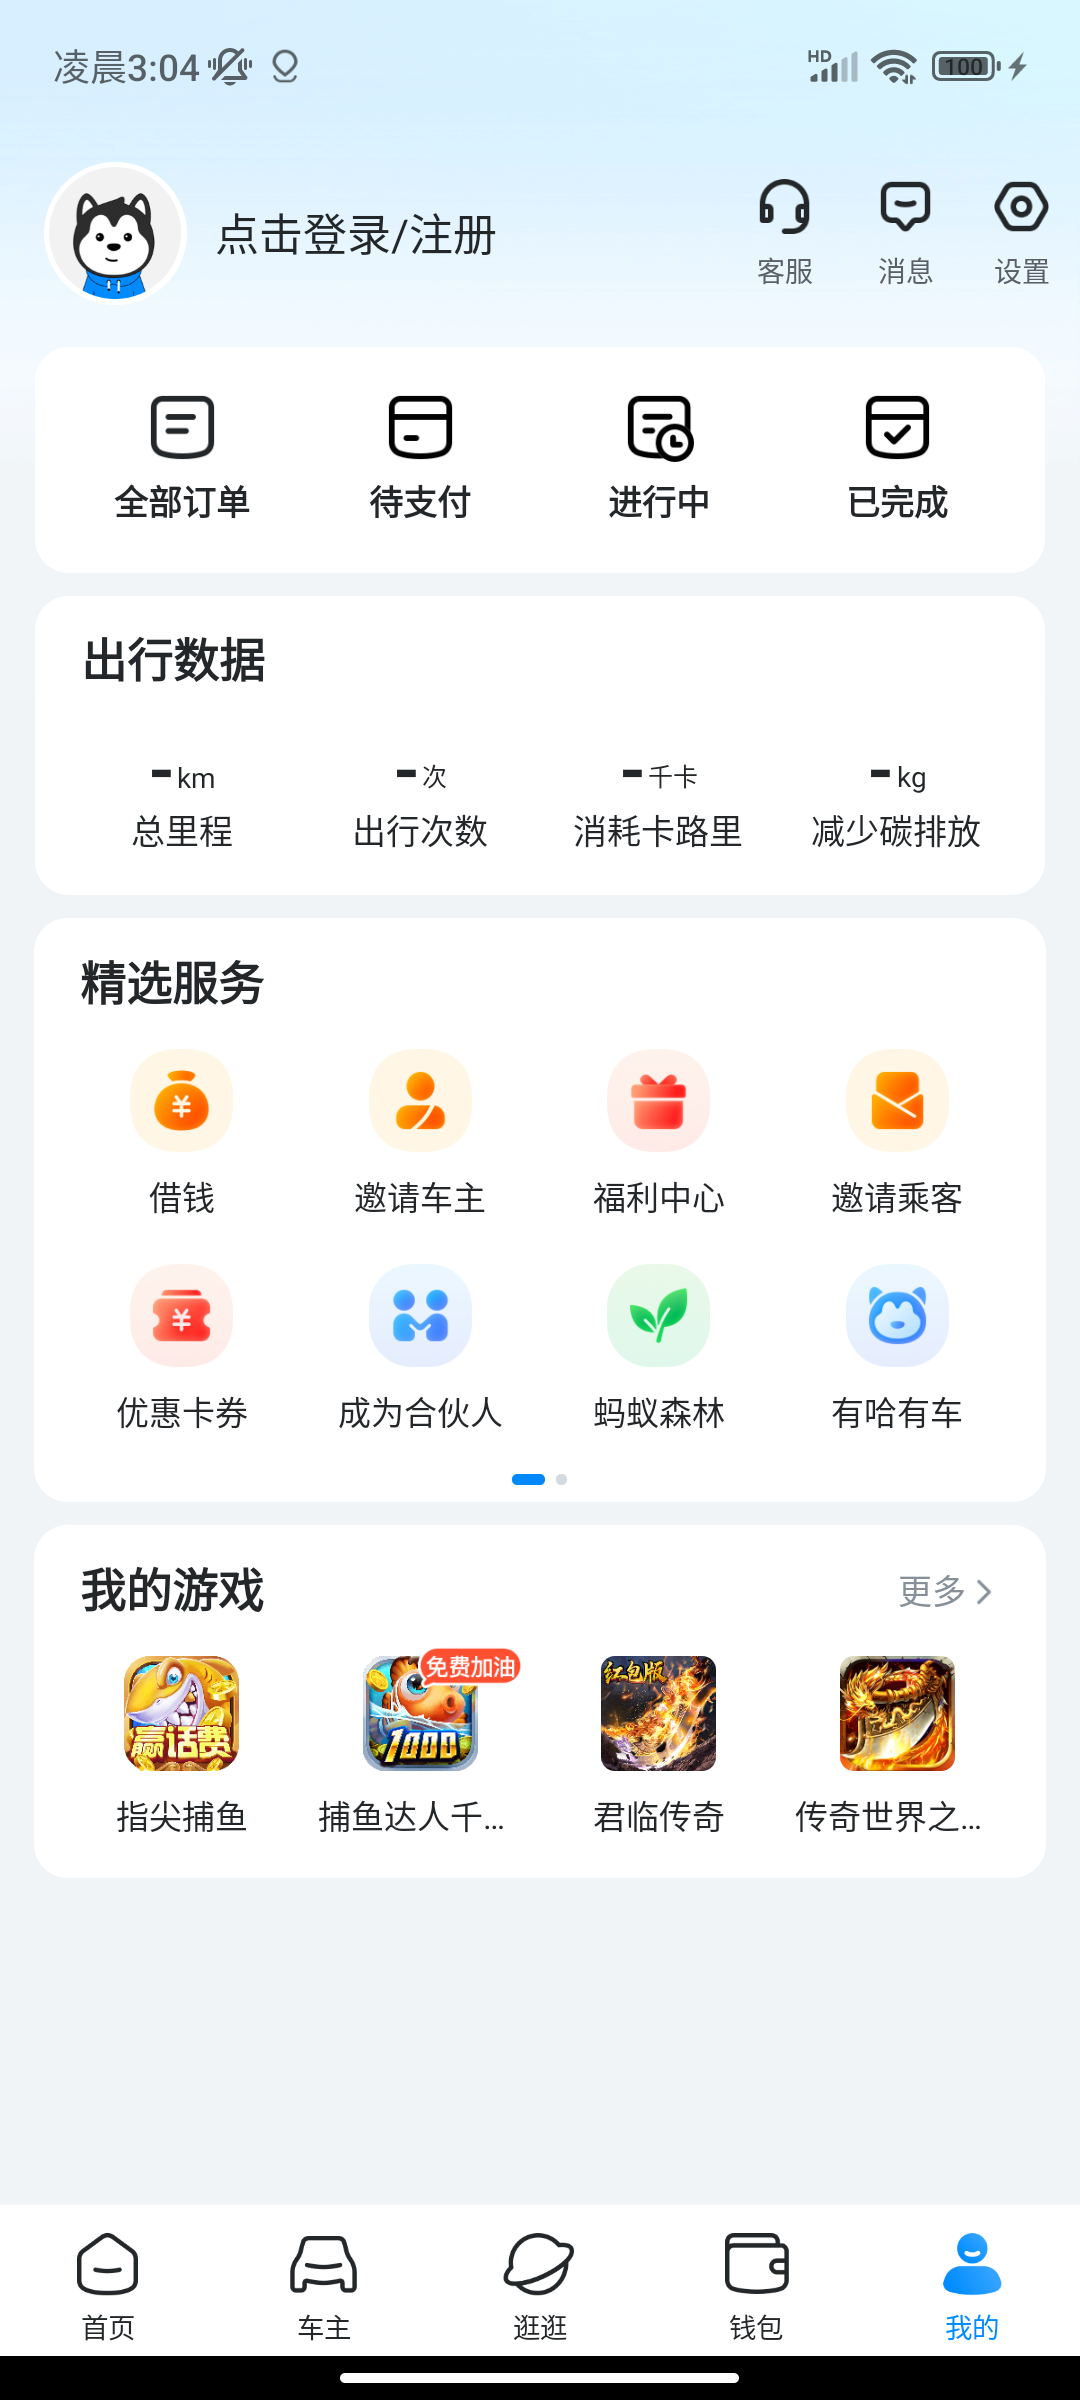ui_group: (312, 1627, 555, 1855), (785, 1626, 1005, 1847), (107, 1627, 289, 1857), (324, 1018, 509, 1240), (578, 1019, 750, 1237), (332, 1244, 520, 1442), (581, 1627, 743, 1851), (818, 1032, 990, 1240), (825, 1251, 987, 1462), (102, 1257, 272, 1453), (584, 1252, 754, 1443), (104, 375, 280, 548), (119, 1026, 260, 1228), (825, 378, 987, 553), (347, 377, 493, 556), (597, 380, 725, 540), (733, 165, 838, 302), (985, 152, 1072, 305), (870, 158, 959, 302)
